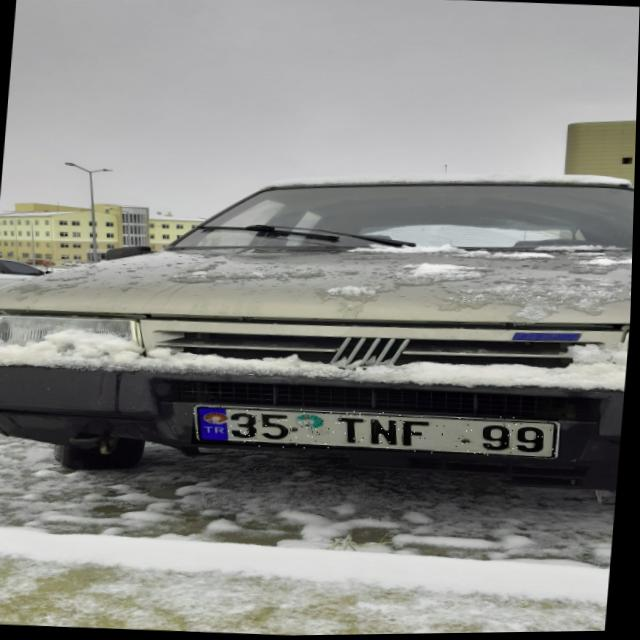license_plate: (194, 401, 562, 464)
